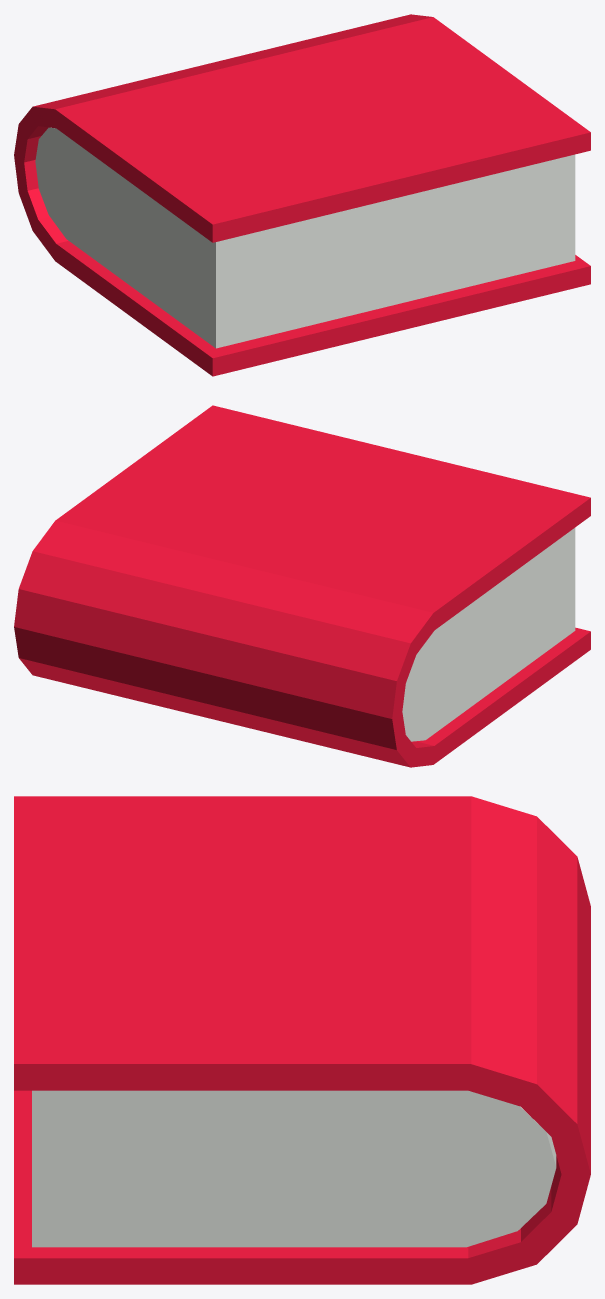
The model's file is Book_3c.fbx.
3 views of the same model, one above another, from view 1: azimuth 30°, elevation 25°; view 2: azimuth 150°, elevation 25°; view 3: azimuth 270°, elevation 25° (orthographic). The views are drawn at different scales.
Parts seen in each view (by area): view 1: Book_3c; view 2: Book_3c; view 3: Book_3c.
Part boxes in pixels (bbox=[...]): Book_3c: bbox=[14, 14, 590, 376]; Book_3c: bbox=[14, 405, 590, 767]; Book_3c: bbox=[14, 796, 590, 1284].
Bounding box in the file's own units: 0.2083 × 0.08 × 0.1896.
